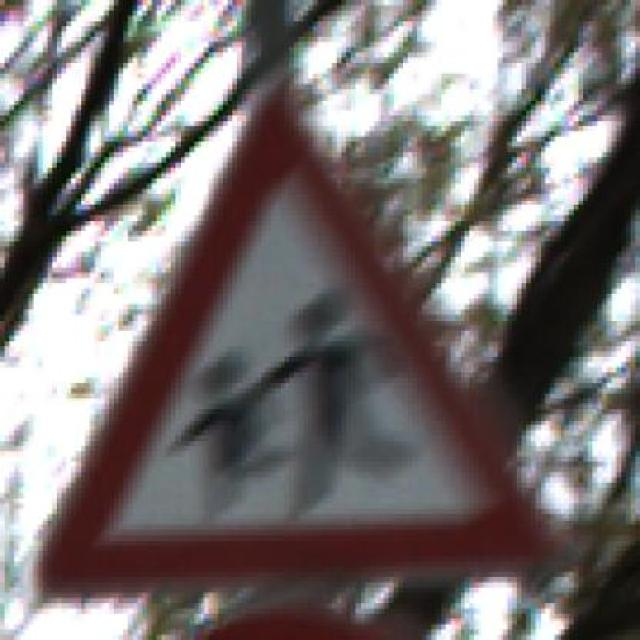Beware of children: (33, 78, 555, 588)
